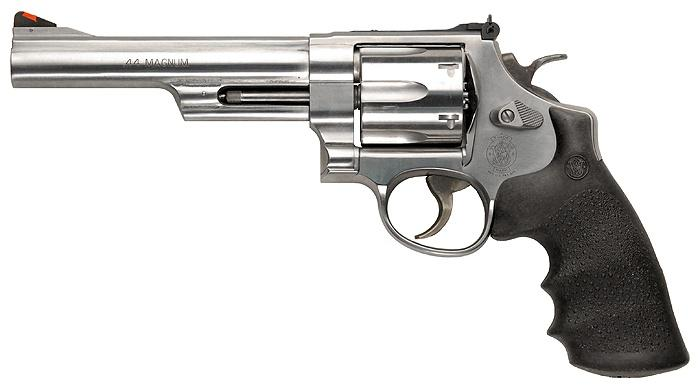gun: (6, 9, 695, 389)
